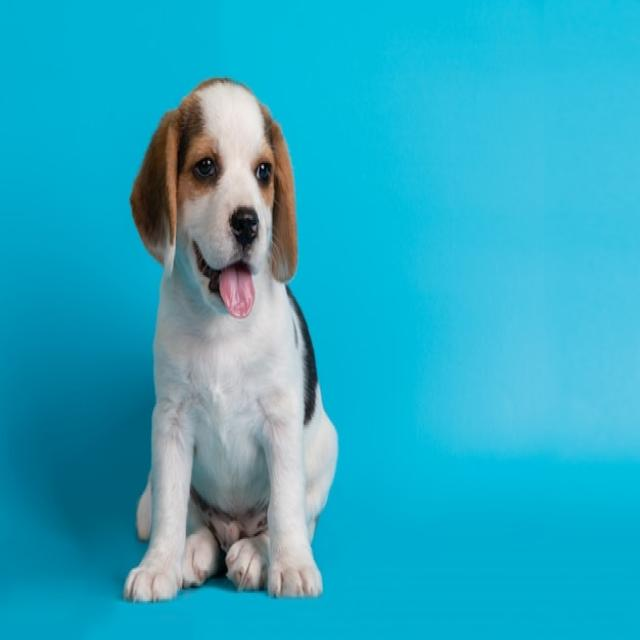Dog: (123, 74, 340, 600)
